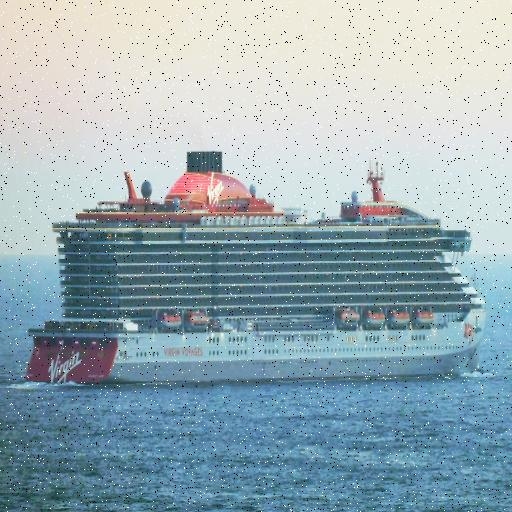cruises: (21, 146, 491, 391)
